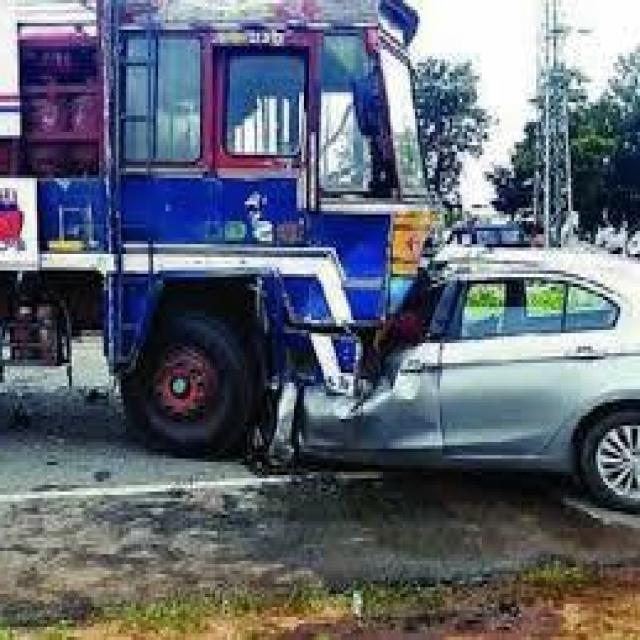multiple_accident: (227, 176, 543, 470)
